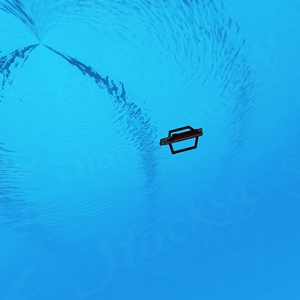submarine: (158, 128, 206, 154)
